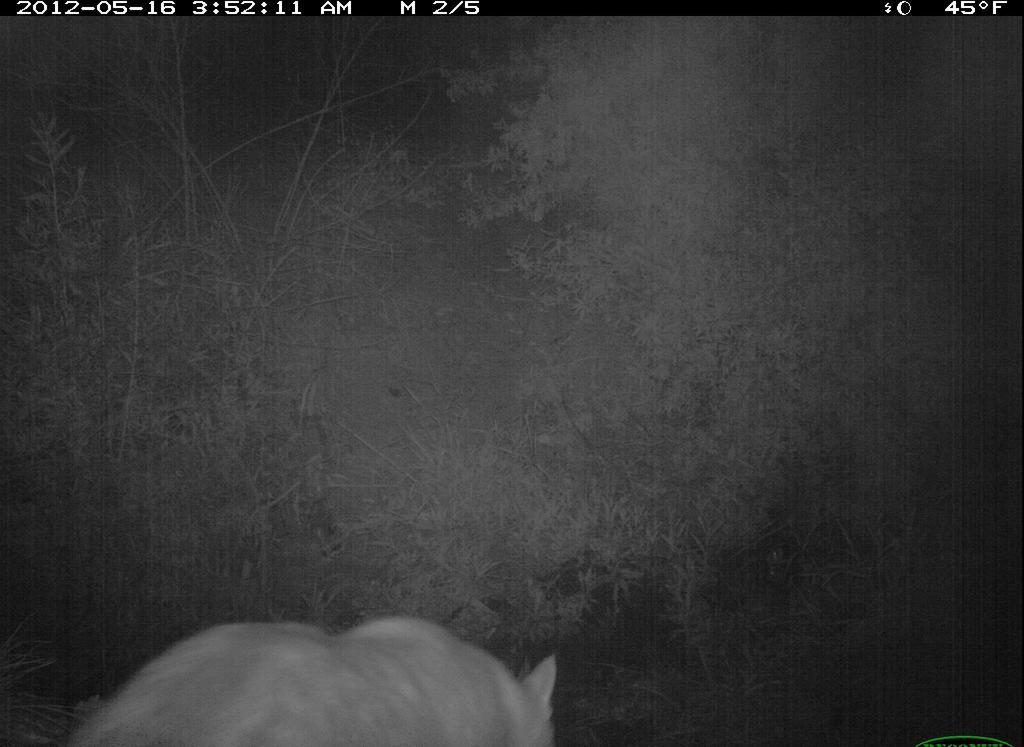cat: (48, 605, 565, 747)
